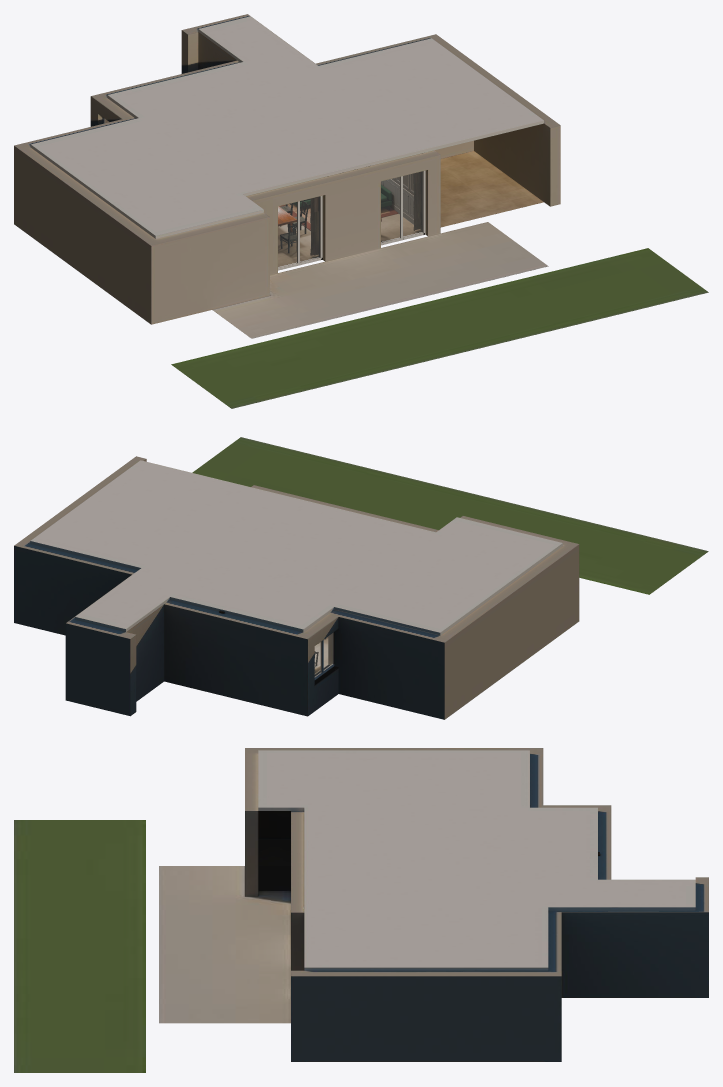
The model's file is szene_fliesen.glb.
The picture shows the model from 3 angles, top to bottom: view 1: azimuth 30°, elevation 25°; view 2: azimuth 150°, elevation 25°; view 3: azimuth 270°, elevation 25°; orthographic projection. The views are drawn at different scales.
Visible parts, largest first — view 1: VR_Decke_Creme, VR_Wand_Greige, VR_Aussen_Wiese, VR_Aussen_Terrasse, Boden_Fusion, VR_Glas, VR_Fensterrahmen, VR_Vorhang_Leinen, VR_Leiste_Creme; view 2: VR_Decke_Creme, VR_Wand_Greige, VR_Aussen_Wiese, VR_Glas; view 3: VR_Decke_Creme, VR_Wand_Greige, VR_Aussen_Wiese, VR_Aussen_Terrasse, Boden_Fusion.
Part boxes in pixels (x1,y1,x2,y2): VR_Decke_Creme: [30, 16, 543, 238]; VR_Wand_Greige: [14, 14, 560, 324]; VR_Aussen_Wiese: [171, 248, 708, 408]; VR_Aussen_Terrasse: [212, 222, 548, 338]; Boden_Fusion: [278, 151, 543, 266]; VR_Glas: [104, 119, 422, 267]; VR_Fensterrahmen: [102, 117, 425, 270]; VR_Vorhang_Leinen: [310, 171, 421, 255]; VR_Leiste_Creme: [318, 171, 421, 256]; VR_Decke_Creme: [30, 460, 562, 635]; VR_Wand_Greige: [14, 456, 579, 719]; VR_Aussen_Wiese: [192, 437, 708, 594]; VR_Glas: [315, 633, 332, 676]; VR_Decke_Creme: [258, 750, 695, 970]; VR_Wand_Greige: [245, 748, 708, 1061]; VR_Aussen_Wiese: [14, 820, 145, 1072]; VR_Aussen_Terrasse: [159, 866, 290, 1023]; Boden_Fusion: [258, 839, 290, 865].
Bounding box in the file's own units: 16.5 × 2.7 × 19.15.
45 materials, 44 textured.
